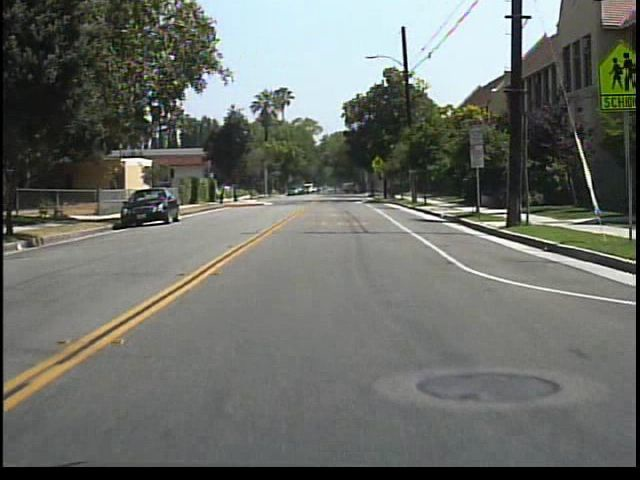person: (328, 180, 342, 198)
